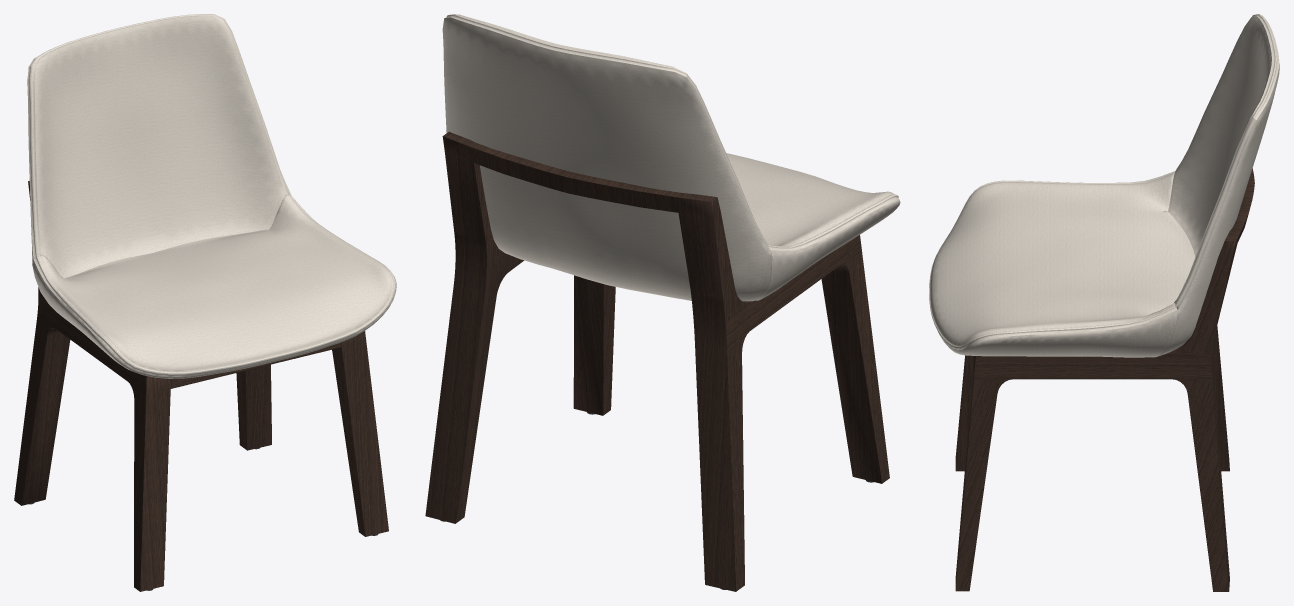
The picture shows the model from 3 angles, left to right: view 1: azimuth 30°, elevation 25°; view 2: azimuth 150°, elevation 25°; view 3: azimuth 270°, elevation 25°; orthographic projection. The views are drawn at different scales.
Visible parts, largest first — view 1: HI1901-B-SBR_Component_02, HI1901-B-SBR_Component_04, HI1901-B-SBR_Component_05; view 2: HI1901-B-SBR_Component_02, HI1901-B-SBR_Component_04; view 3: HI1901-B-SBR_Component_02, HI1901-B-SBR_Component_04.
Boxes of the visible parts, x1=… form: HI1901-B-SBR_Component_02: x1=27, y1=14, x2=396, y2=378; HI1901-B-SBR_Component_04: x1=14, y1=181, x2=388, y2=591; HI1901-B-SBR_Component_05: x1=170, y1=342, x2=341, y2=388; HI1901-B-SBR_Component_02: x1=442, y1=14, x2=900, y2=301; HI1901-B-SBR_Component_04: x1=425, y1=132, x2=889, y2=591; HI1901-B-SBR_Component_02: x1=929, y1=14, x2=1279, y2=357; HI1901-B-SBR_Component_04: x1=955, y1=168, x2=1254, y2=591.
Size of the model in its own units: 22 by 21 by 31.
Materials: 3 (3 with a texture image).
